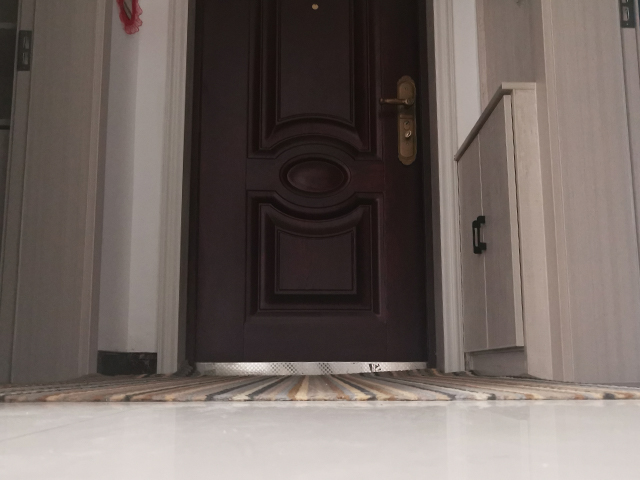cabinet: (450, 79, 550, 383)
carpet: (1, 367, 640, 406)
